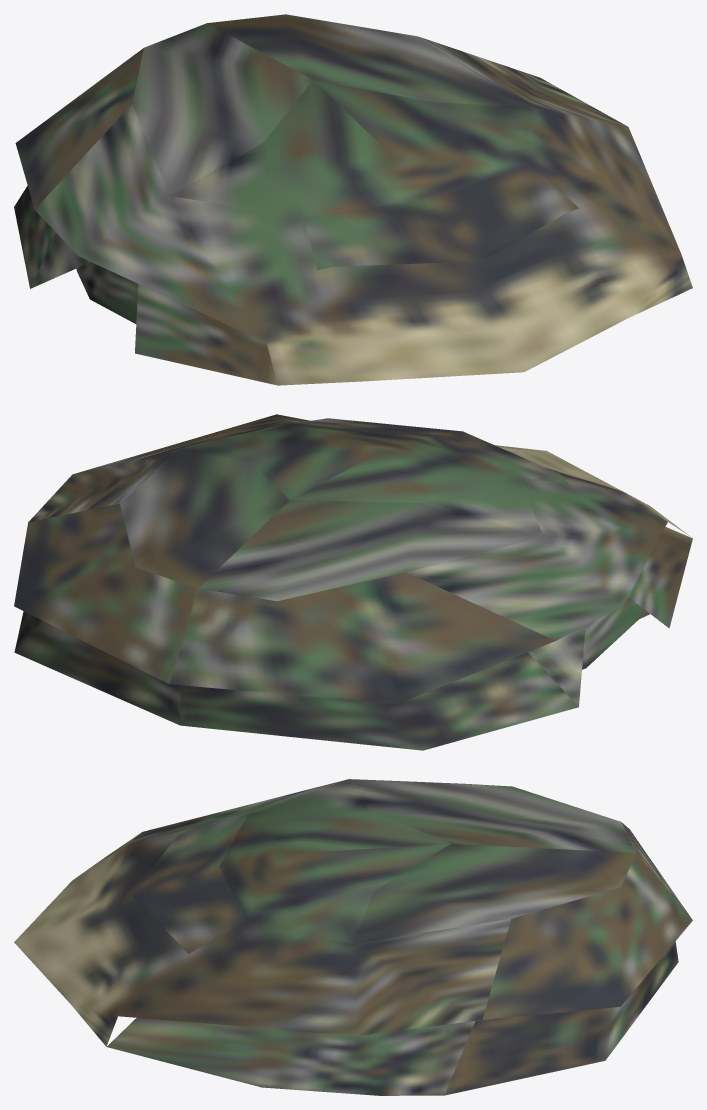
Rendered from HelmetRags_WorldItem.fbx.
The picture shows the model from 3 angles, top to bottom: view 1: azimuth 30°, elevation 25°; view 2: azimuth 150°, elevation 25°; view 3: azimuth 270°, elevation 25°; orthographic projection. The views are drawn at different scales.
Parts seen in each view (by area): view 1: Cube.003_Cube.003; view 2: Cube.003_Cube.003; view 3: Cube.003_Cube.003.
Boxes of the visible parts, x1,y1,x2,y2 form: Cube.003_Cube.003: (14, 14, 692, 385); Cube.003_Cube.003: (14, 414, 692, 750); Cube.003_Cube.003: (14, 779, 692, 1095).
Size of the model in its own units: 0.3733 by 0.0916 by 0.425.
